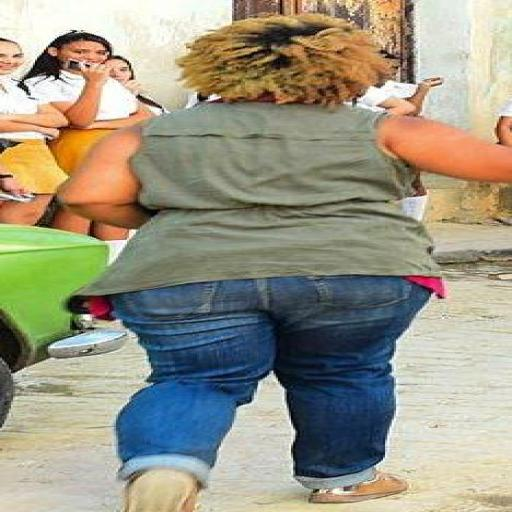person: (60, 15, 511, 511), (22, 32, 153, 173), (0, 38, 67, 224), (106, 55, 168, 114), (359, 77, 444, 115), (495, 98, 511, 146)
